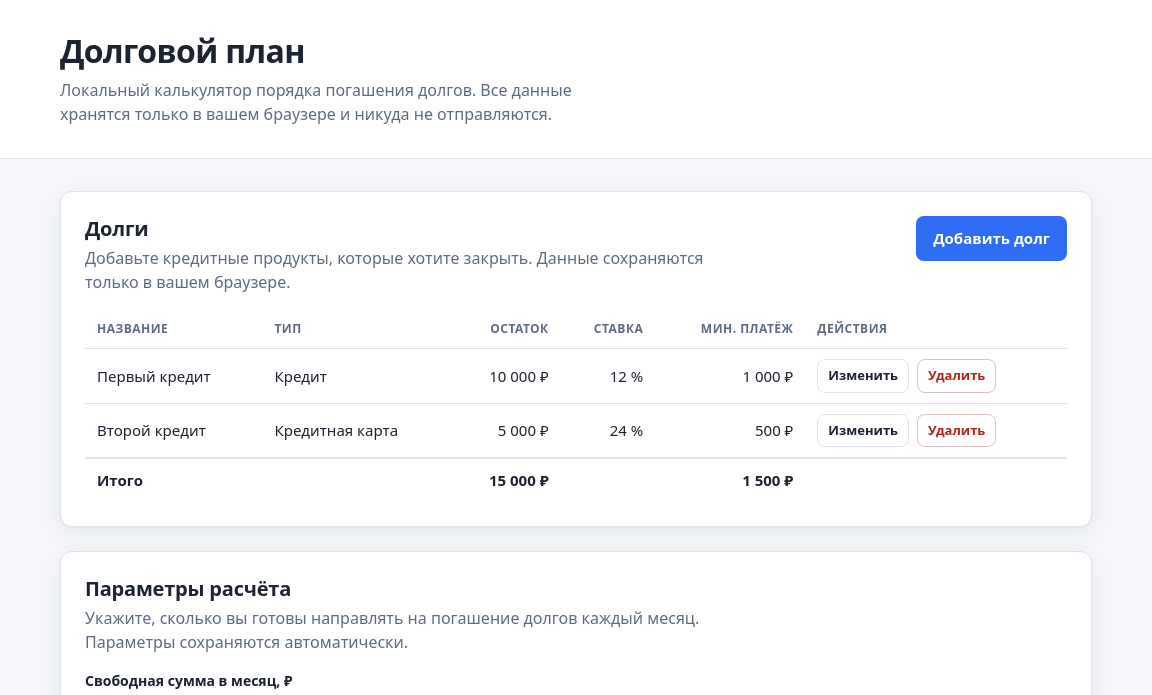
Scenario: FE-009: удаление долга с подтверждением › после подтверждения удаляет долг, пересчитывает итоги и обновляет localStorage
The image size is (1152, 695).
Step 1. Click the button "Удалить" in the row of "Первый кредит" → (957, 376), box [917,359,996,393]
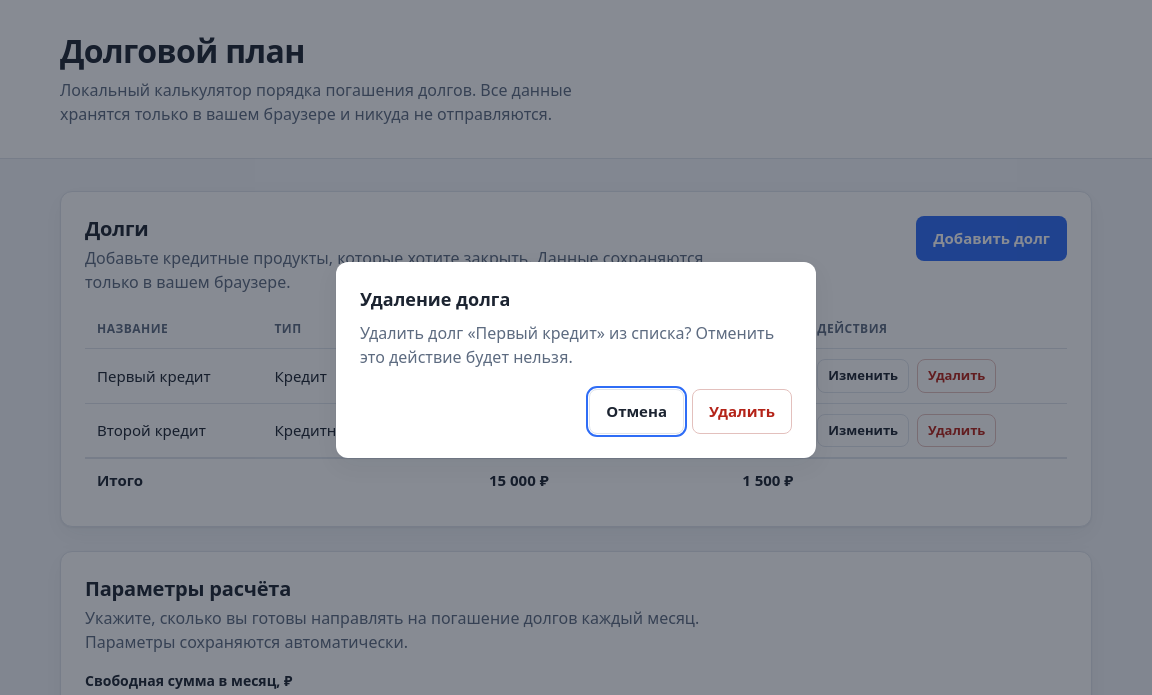
Step 2. Click the button "Удалить" → (742, 412), box [692,389,792,434]
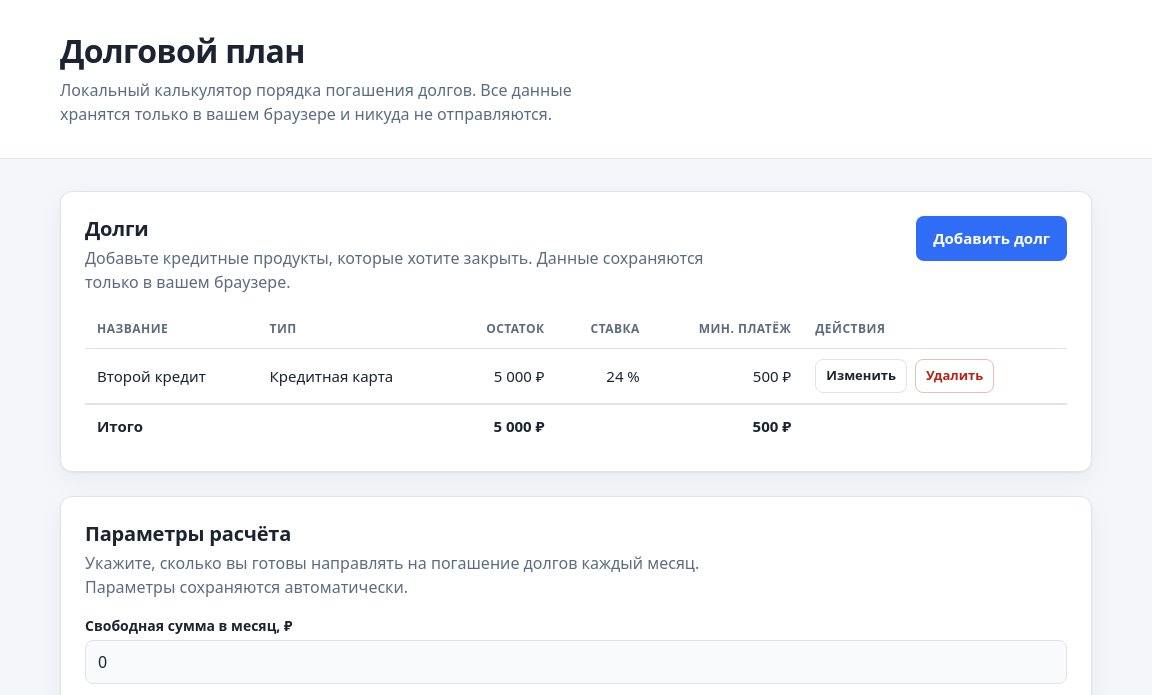
Expected: the text "Второй кредит" is shown, [85,349,258,404]
Expected: the text "Первый кредит" is gone
